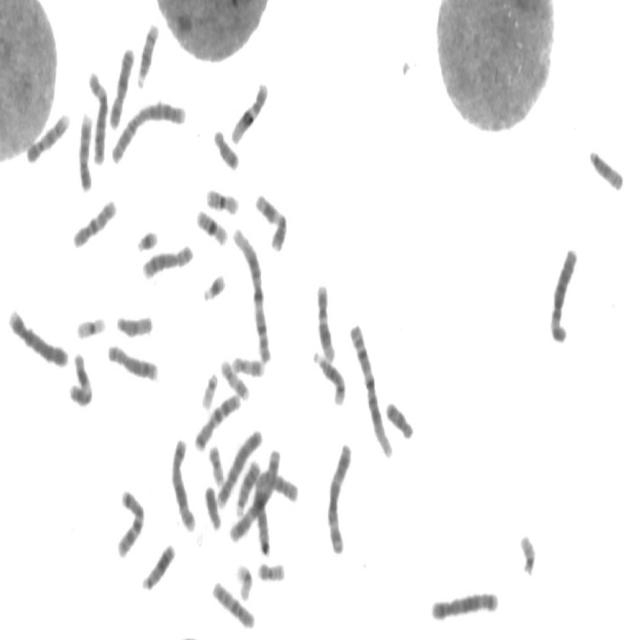A1: (347, 316, 395, 459), (230, 219, 274, 365)
A2: (107, 92, 189, 164), (250, 460, 297, 562)
A3: (227, 443, 283, 543), (324, 434, 354, 556)
B4: (5, 300, 71, 370), (213, 422, 264, 510)
B5: (168, 431, 198, 533), (428, 584, 501, 622)
C10: (208, 573, 258, 631), (70, 191, 119, 250)
C11: (252, 186, 290, 253), (66, 347, 95, 408)
C12: (228, 74, 270, 145), (314, 277, 338, 363)
C6: (546, 239, 580, 345), (84, 63, 110, 167)
C7: (192, 386, 243, 452), (113, 482, 147, 560)
C8: (104, 336, 160, 383), (139, 237, 196, 280)
C9: (23, 106, 72, 164), (76, 106, 96, 192)
D13: (138, 536, 178, 592), (232, 453, 263, 517)
D14: (310, 344, 348, 406), (134, 15, 161, 90)
D15: (586, 141, 626, 193), (113, 307, 155, 338)
E16: (193, 201, 230, 248), (202, 181, 242, 215)
E17: (218, 352, 252, 402), (228, 348, 267, 378)
E18: (382, 393, 416, 441), (210, 121, 242, 172)
F19: (73, 309, 108, 340), (232, 557, 255, 602)
F20: (206, 438, 227, 488), (255, 555, 288, 583)
G21: (200, 265, 228, 303), (133, 222, 161, 253)
G22: (517, 526, 538, 577), (198, 365, 220, 410)
X: (106, 40, 137, 130)
Y: (201, 478, 224, 532)
